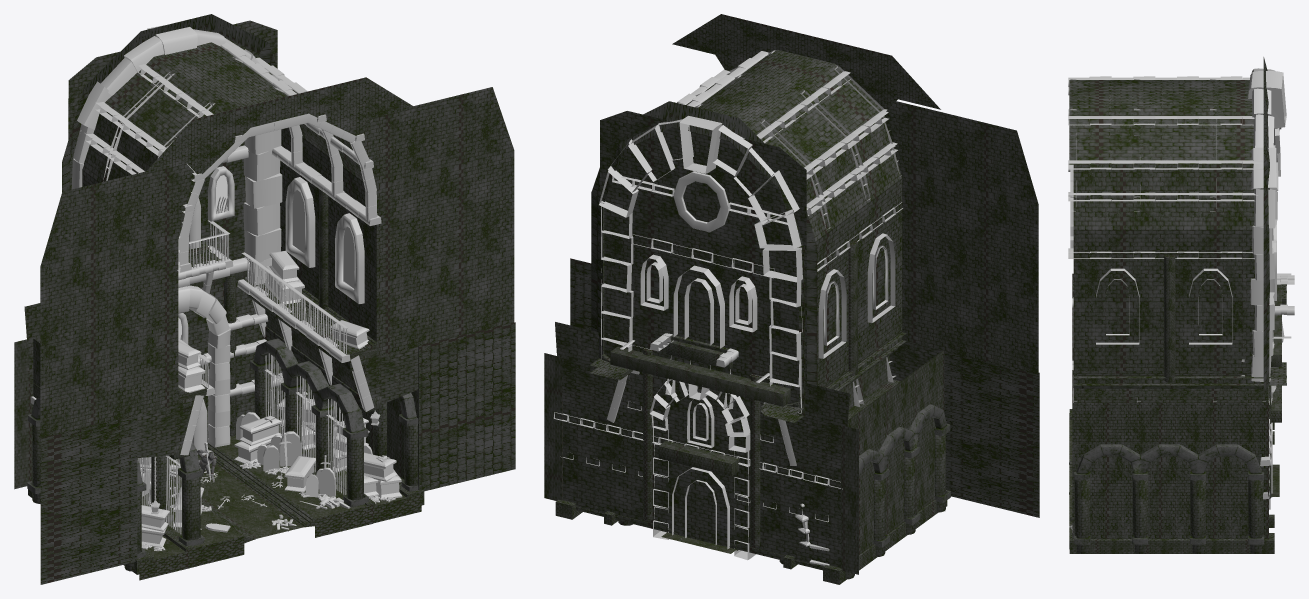
File: ENVIROFINAL.fbx
3 views of the same model, side by side, from view 1: azimuth 30°, elevation 25°; view 2: azimuth 150°, elevation 25°; view 3: azimuth 270°, elevation 25° (orthographic). The views are drawn at different scales.
Parts seen in each view (by area): view 1: Object016, SIDEWALLS001, ROOF1, BRICKDETAILS, ROOF, BACKWALL, DETAILS008, Cylinder019, ARCHES_lowpoly001, ARCHWINDOW_LOWPOLY037, PILLAR010, FLOORBOTTOM (+34 smaller); view 2: BACKWALL, Object016, SIDEWALLS001, ROOF1, ROOF, BRICKDETAILS, DETAILS008, ARCHWINDOW_LOWPOLY037, Box005, PILLAR009, PILLAR008, ARCHES_lowpoly002 (+19 smaller); view 3: ROOF, SIDEWALLS001, ROOF1, PILLAR008, BRICKDETAILS, ARCHWINDOW_LOWPOLY037, ARCHES_lowpoly002, DETAILS008, Box002, ARCHWINDOW_LOWPOLY039, DETAILS007, PILLAR011 (+11 smaller).
Boxes of the visible parts, x1,y1,x2,y2 form: Object016: [40, 87, 514, 438]; SIDEWALLS001: [14, 322, 515, 584]; ROOF1: [84, 14, 415, 174]; BRICKDETAILS: [103, 56, 381, 459]; ROOF: [62, 43, 376, 341]; BACKWALL: [24, 20, 311, 480]; DETAILS008: [33, 309, 418, 457]; Cylinder019: [137, 353, 346, 534]; ARCHES_lowpoly001: [154, 338, 368, 480]; ARCHWINDOW_LOWPOLY037: [71, 25, 259, 189]; PILLAR010: [137, 369, 363, 539]; FLOORBOTTOM: [169, 454, 302, 538]; BACKWALL: [555, 111, 849, 570]; Object016: [884, 101, 1038, 374]; SIDEWALLS001: [544, 258, 1039, 574]; ROOF1: [619, 14, 940, 189]; ROOF: [591, 116, 902, 416]; BRICKDETAILS: [598, 50, 901, 470]; DETAILS008: [562, 341, 943, 468]; ARCHWINDOW_LOWPOLY037: [598, 115, 802, 282]; Box005: [610, 346, 790, 406]; PILLAR009: [643, 348, 760, 546]; PILLAR008: [845, 434, 945, 579]; ARCHES_lowpoly002: [859, 404, 950, 480]; ROOF: [1073, 155, 1269, 391]; SIDEWALLS001: [1072, 273, 1268, 538]; ROOF1: [1069, 57, 1269, 164]; PILLAR008: [1074, 480, 1263, 553]; BRICKDETAILS: [1070, 79, 1274, 402]; ARCHWINDOW_LOWPOLY037: [1248, 68, 1286, 228]; ARCHES_lowpoly002: [1074, 444, 1264, 480]; DETAILS008: [1074, 388, 1268, 444]; Box002: [1069, 409, 1274, 553]; ARCHWINDOW_LOWPOLY039: [1068, 76, 1254, 125]; DETAILS007: [1074, 284, 1286, 385]; PILLAR011: [1164, 255, 1175, 382].
Bounding box in the file's own units: 102829 × 92747 × 45253.
